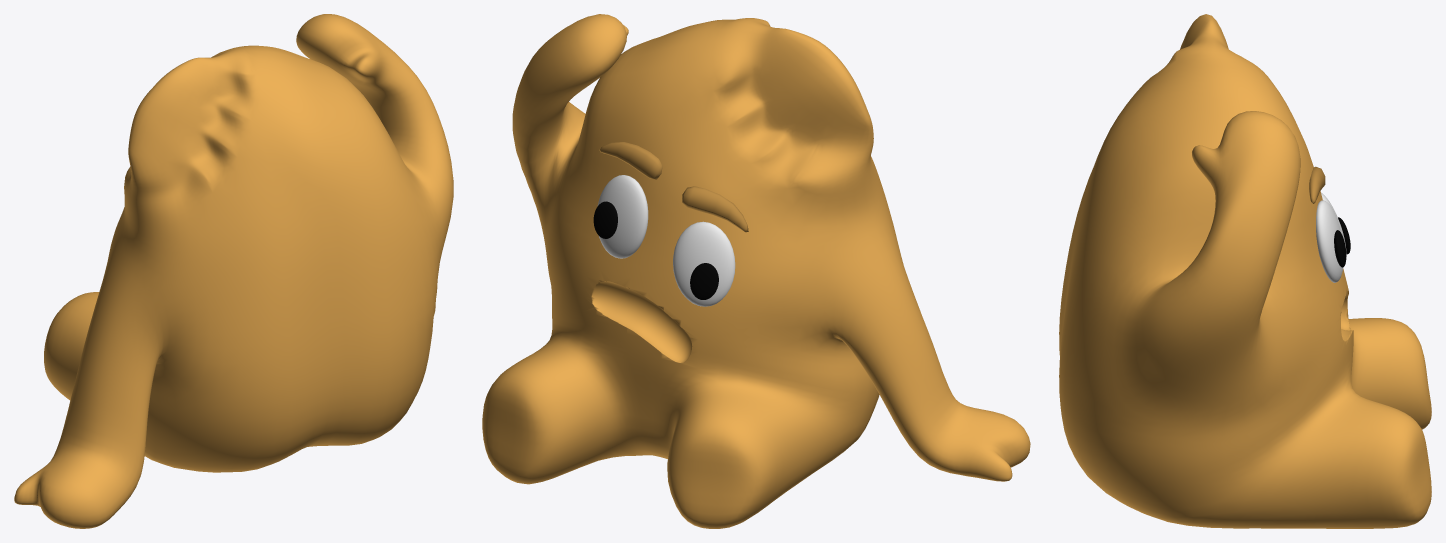
Rendered from chubby_gummies_orange.glb.
3 renders of one model, left to right at view 1: azimuth 30°, elevation 25°; view 2: azimuth 150°, elevation 25°; view 3: azimuth 270°, elevation 25°, orthographic. The views are drawn at different scales.
Parts seen in each view (by area): view 1: chubbie_gummies_orange; view 2: chubbie_gummies_orange; view 3: chubbie_gummies_orange.
Part boxes in pixels (box(x1,y1,x2,y2)): chubbie_gummies_orange: box(14, 14, 453, 528); chubbie_gummies_orange: box(482, 14, 1030, 528); chubbie_gummies_orange: box(1059, 14, 1431, 528).
Size of the model in its own units: 1.55 by 1.33 by 1.06.
